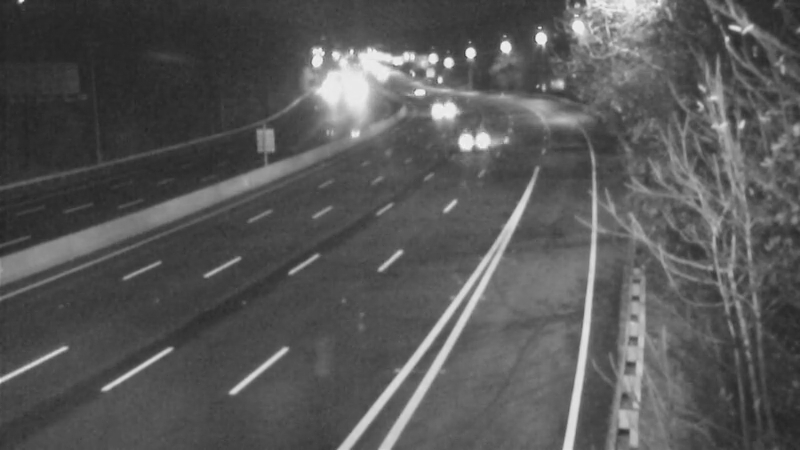vehicle: (392, 63, 442, 113), (412, 85, 462, 135), (446, 115, 496, 165)
